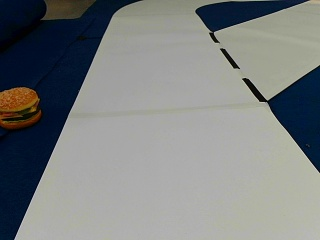burger: (0, 86, 41, 128)
